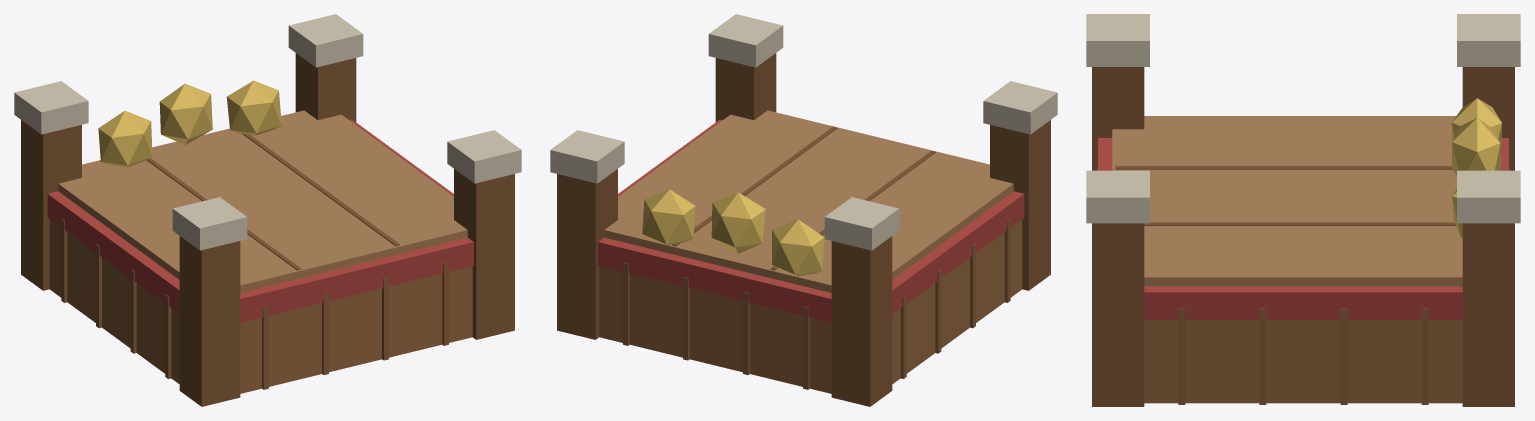
Rendered from habitat_barn_crate.fbx.
3 views of the same model, side by side, from view 1: azimuth 30°, elevation 25°; view 2: azimuth 150°, elevation 25°; view 3: azimuth 270°, elevation 25° (orthographic). The views are drawn at different scales.
Visible parts, largest first — view 1: habitat_barn_crate; view 2: habitat_barn_crate; view 3: habitat_barn_crate.
Boxes of the visible parts, box(x1,y1,x2,y2) form: habitat_barn_crate: box(14, 14, 521, 406); habitat_barn_crate: box(550, 14, 1057, 406); habitat_barn_crate: box(1086, 14, 1520, 406).
Bounding box in the file's own units: 7.8 × 4.2 × 7.8.
